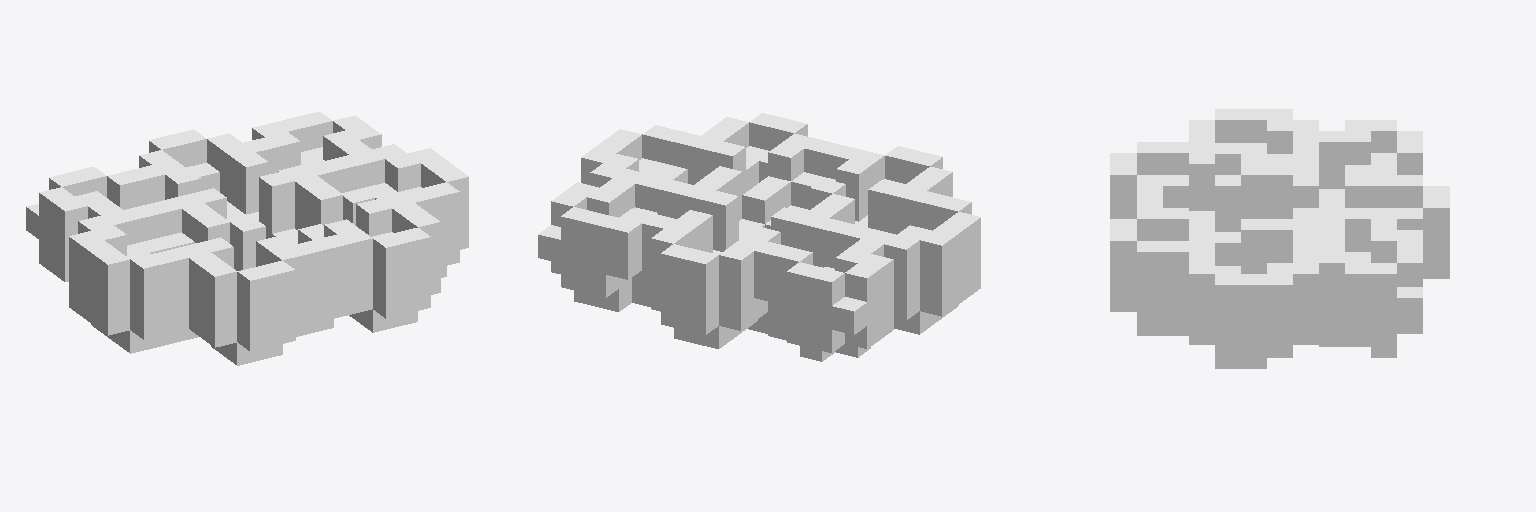
The model's file is DestroyablePlant.obj.
3 renders of one model, left to right at view 1: azimuth 30°, elevation 25°; view 2: azimuth 150°, elevation 25°; view 3: azimuth 270°, elevation 25°, orthographic.
Visible parts, largest first — view 1: object 1; view 2: object 1; view 3: object 1.
Boxes of the visible parts, x1=… form: object 1: x1=26, y1=111, x2=468, y2=365; object 1: x1=538, y1=113, x2=980, y2=361; object 1: x1=1110, y1=109, x2=1449, y2=368.
Size of the model in its own units: 1.6 by 0.5 by 1.3.